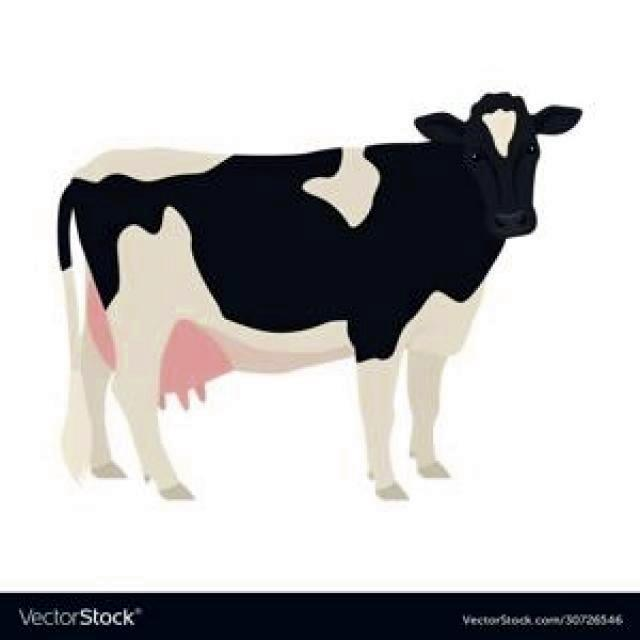COW: (58, 92, 581, 500)
